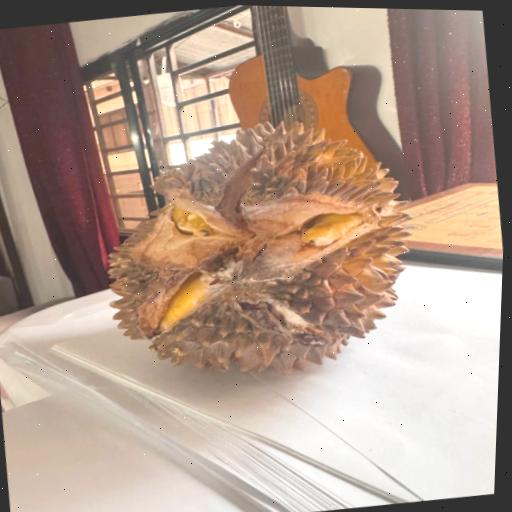rot: (64, 69, 449, 416)
